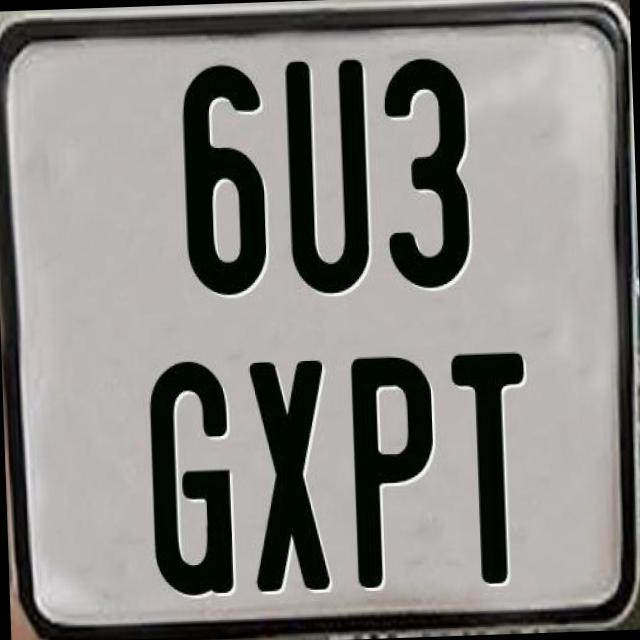3: (378, 55, 468, 292)
6: (178, 61, 268, 296)
G: (144, 356, 238, 594)
P: (351, 352, 437, 590)
T: (447, 350, 528, 582)
U: (280, 58, 370, 300)
X: (246, 354, 330, 594)
